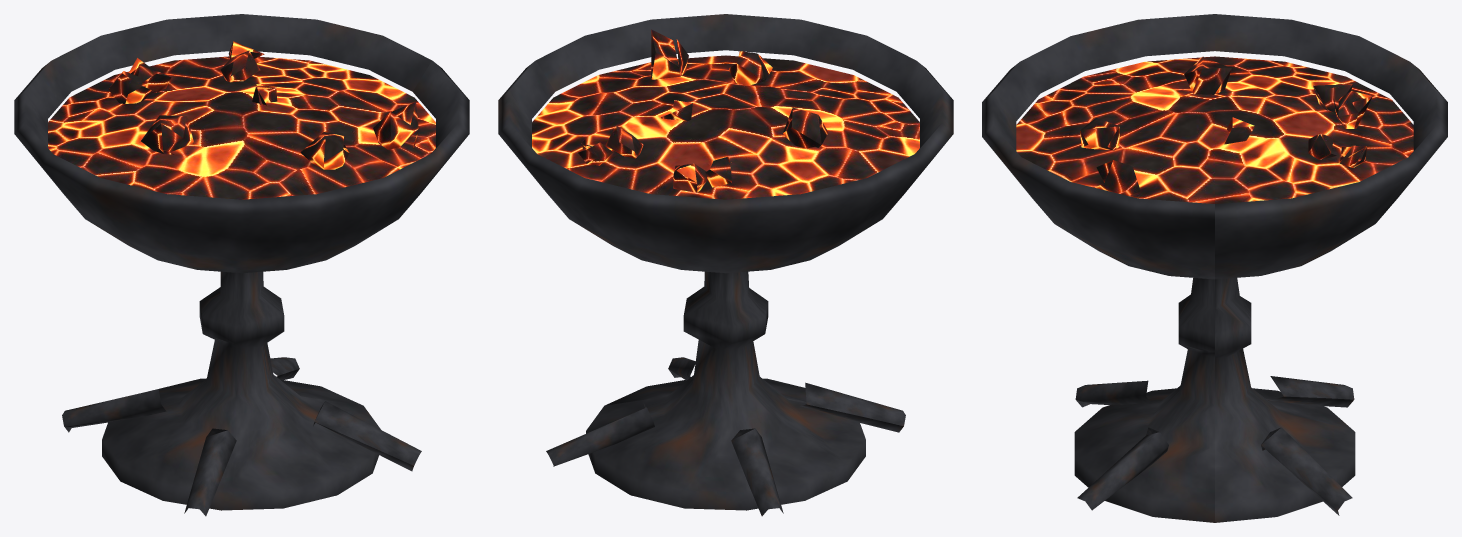
File: tb_brazier.glb
3 renders of one model, left to right at view 1: azimuth 30°, elevation 25°; view 2: azimuth 150°, elevation 25°; view 3: azimuth 270°, elevation 25°, orthographic. The views are drawn at different scales.
Bounding box in the file's own units: 2.04 × 1.73 × 2.01.
2 materials, 2 textured.
